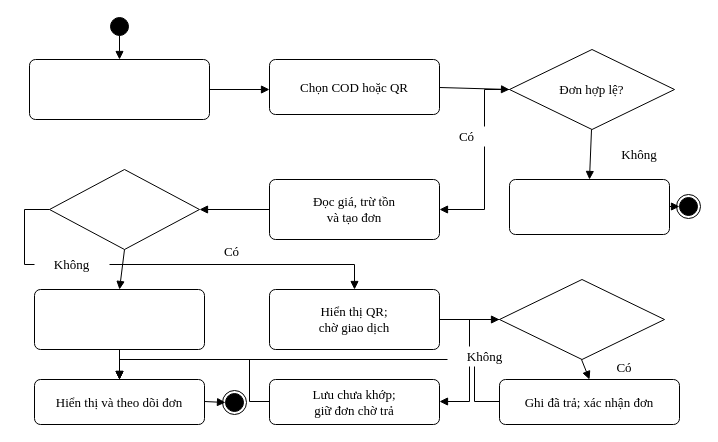
This 718x442 diagram has some shape labels left out. The centre of each missing label's shape, as x and y in pixels:
"Báo lỗi, cập nhật đơn" belongs at [589,206].
"Ghi chờ thu COD" belongs at [119,319].
"Giao dịch khớp?" belongs at [581,319].
"Thanh toán QR?" belongs at [124,209].
"Đăng nhập, chọn hàng và địa chỉ nhận" belongs at [119,89].
